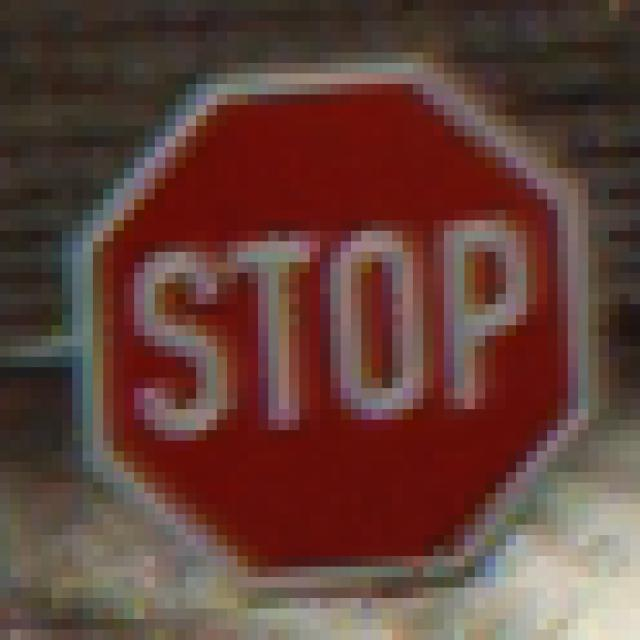STOP: (63, 54, 589, 589)
